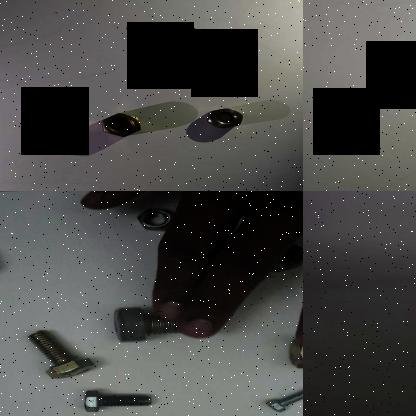Bolts: (22, 326, 104, 381), (76, 384, 160, 414), (258, 378, 303, 414), (286, 339, 303, 373)
NUTS: (129, 204, 175, 232), (100, 111, 144, 139), (202, 106, 244, 130), (192, 56, 224, 74)
